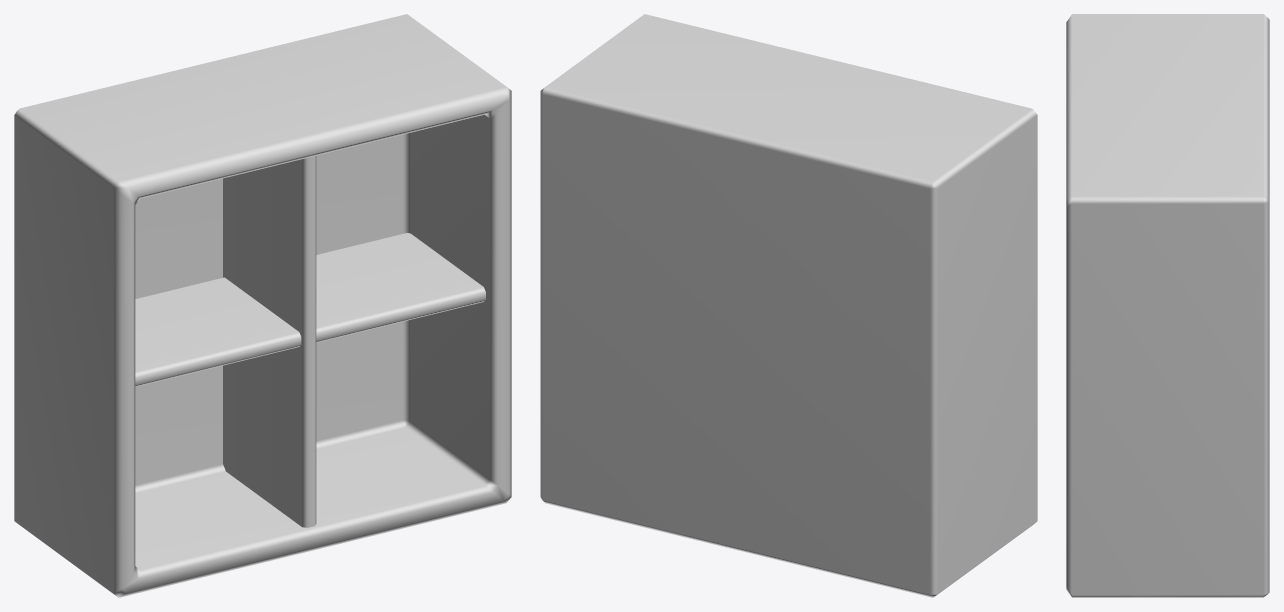
Rendered from dresser_028.fbx.
3 views of the same model, side by side, from view 1: azimuth 30°, elevation 25°; view 2: azimuth 150°, elevation 25°; view 3: azimuth 270°, elevation 25° (orthographic). The views are drawn at different scales.
Visible parts, largest first — view 1: dresser_028; view 2: dresser_028; view 3: dresser_028.
Part boxes in pixels (x1,y1,x2,y2): dresser_028: [14, 14, 511, 597]; dresser_028: [540, 14, 1037, 597]; dresser_028: [1066, 14, 1269, 597].
Bounding box in the file's own units: 122 × 55.94 × 122.
